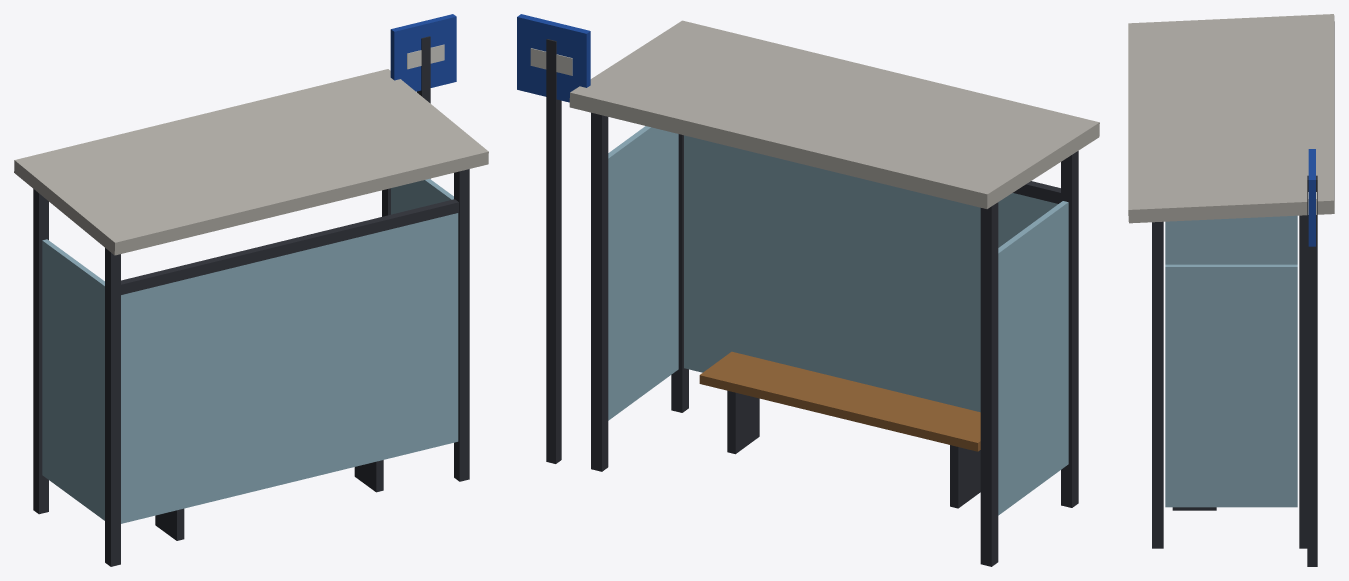
Rendered from prop_busstop_01.glb.
The picture shows the model from 3 angles, left to right: view 1: azimuth 30°, elevation 25°; view 2: azimuth 150°, elevation 25°; view 3: azimuth 270°, elevation 25°; orthographic projection. The views are drawn at different scales.
Parts seen in each view (by area): view 1: prop_busstop_01; view 2: prop_busstop_01; view 3: prop_busstop_01.
Boxes of the visible parts, x1=… form: prop_busstop_01: x1=14, y1=14, x2=488, y2=566; prop_busstop_01: x1=517, y1=14, x2=1099, y2=566; prop_busstop_01: x1=1128, y1=14, x2=1334, y2=566.
Bounding box in the file's own units: 3.45 × 3 × 1.4.
